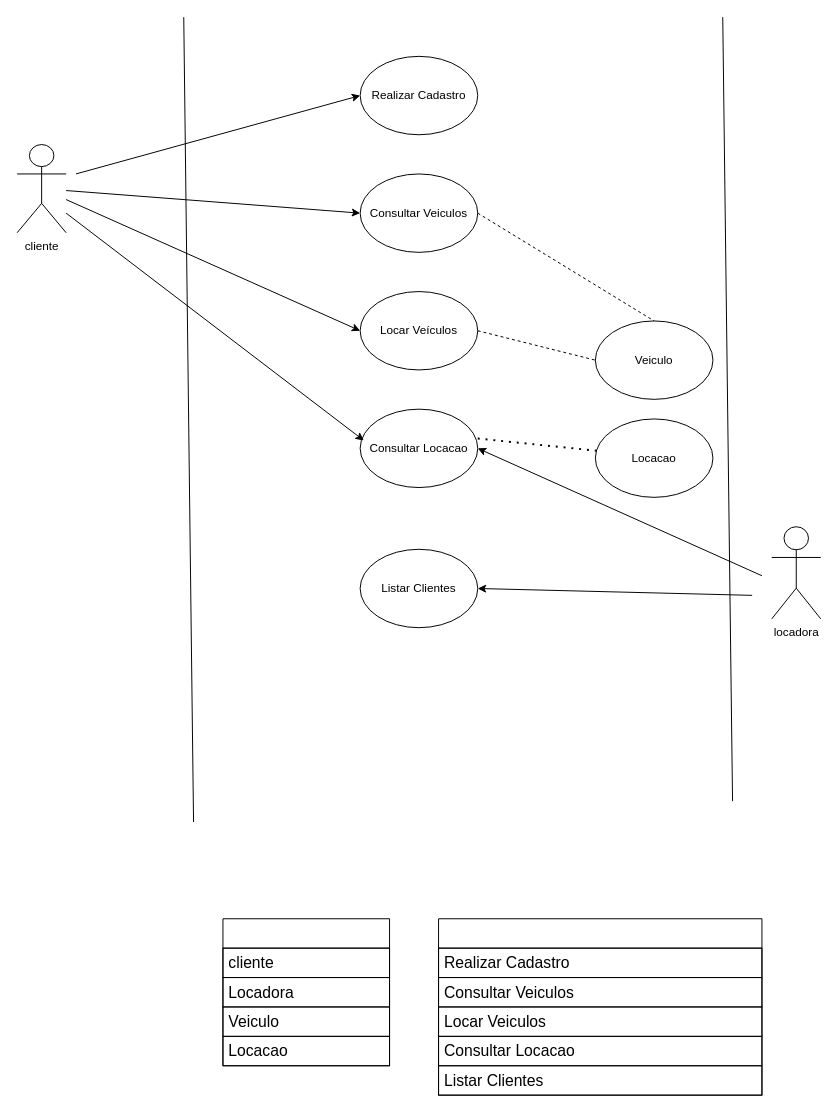
Image size: 838x1112. Some labels were removed from this diagram. The shapes that lost their labels are listed below. From the top down, each one's box as (x1, y1, x2, y2) in pixels, then its label:
(222, 918, 390, 1066): Substantivo
(438, 918, 762, 1095): Verbo
